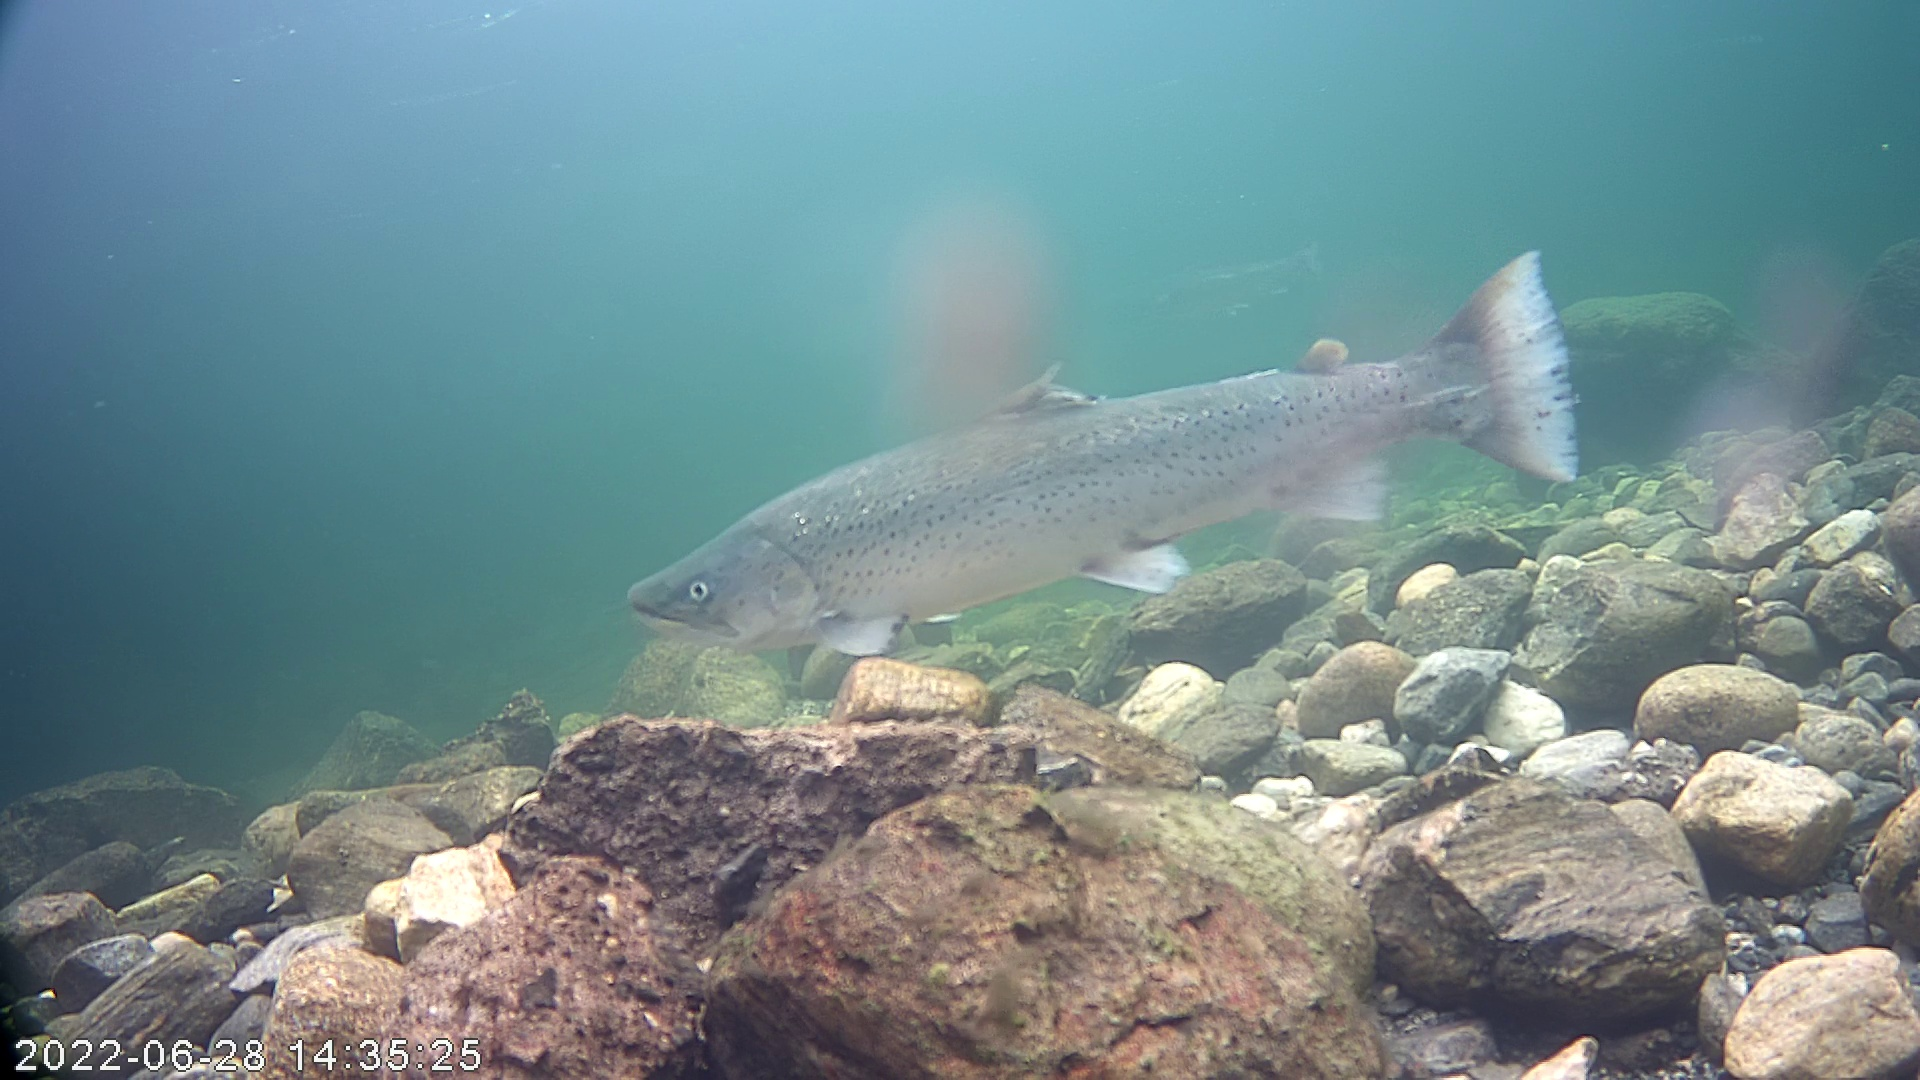salmon: (620, 225, 1613, 663)
